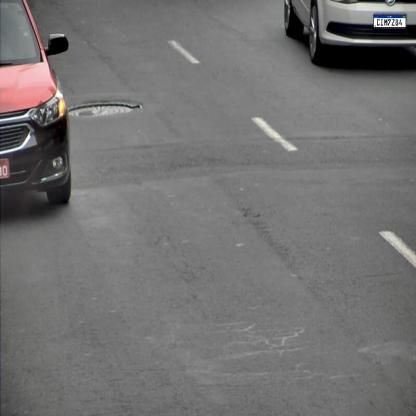PlacaM: (373, 14, 406, 28)
